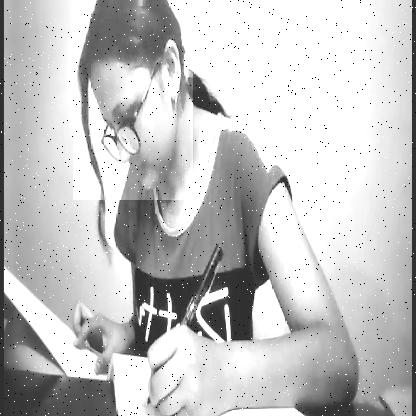Distracted: (72, 0, 192, 200)
